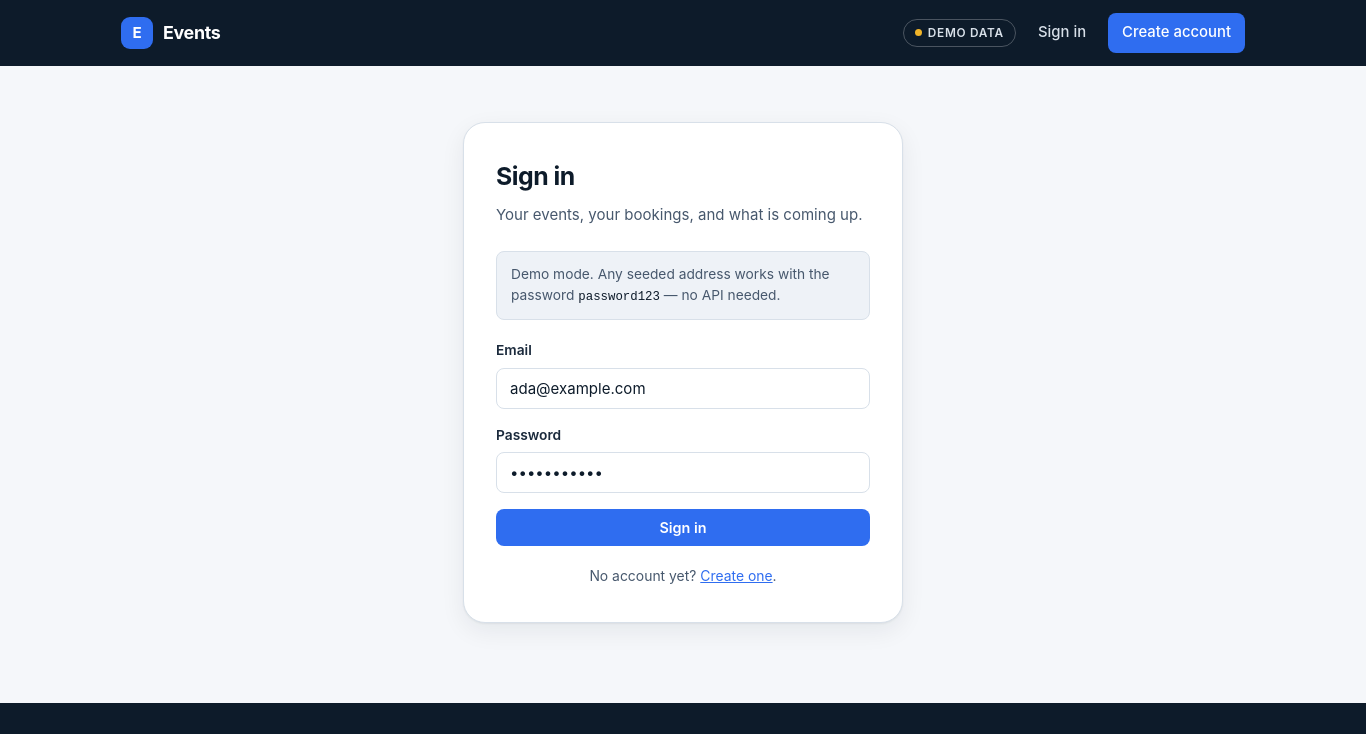
Test: the signed-in home page › offers Delete on the events the user organizes
The image size is (1366, 734).
Click the button "Sign in": (683, 527) top-left (496, 509), bottom-right (870, 546)
(page scrolled)
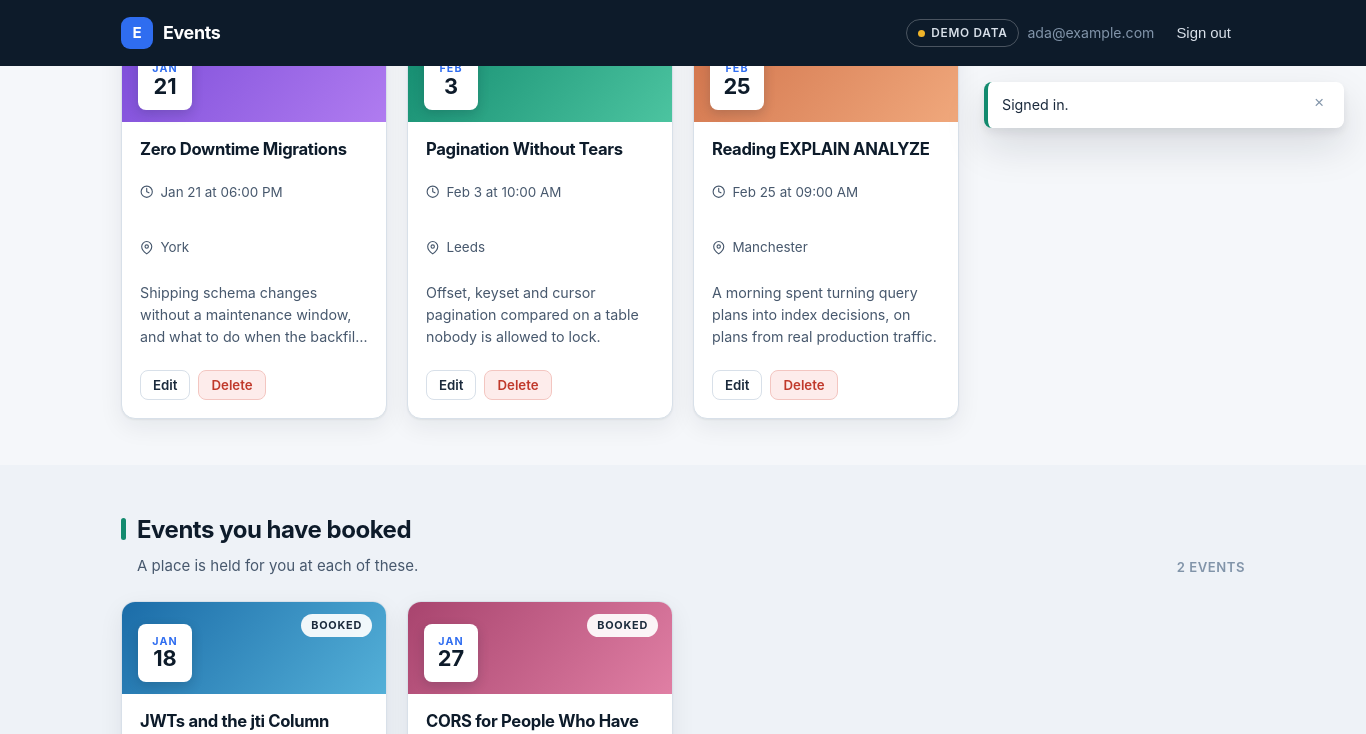
Expected: the button "Delete" below "York" is shown, top-left (198, 370), bottom-right (266, 400)
